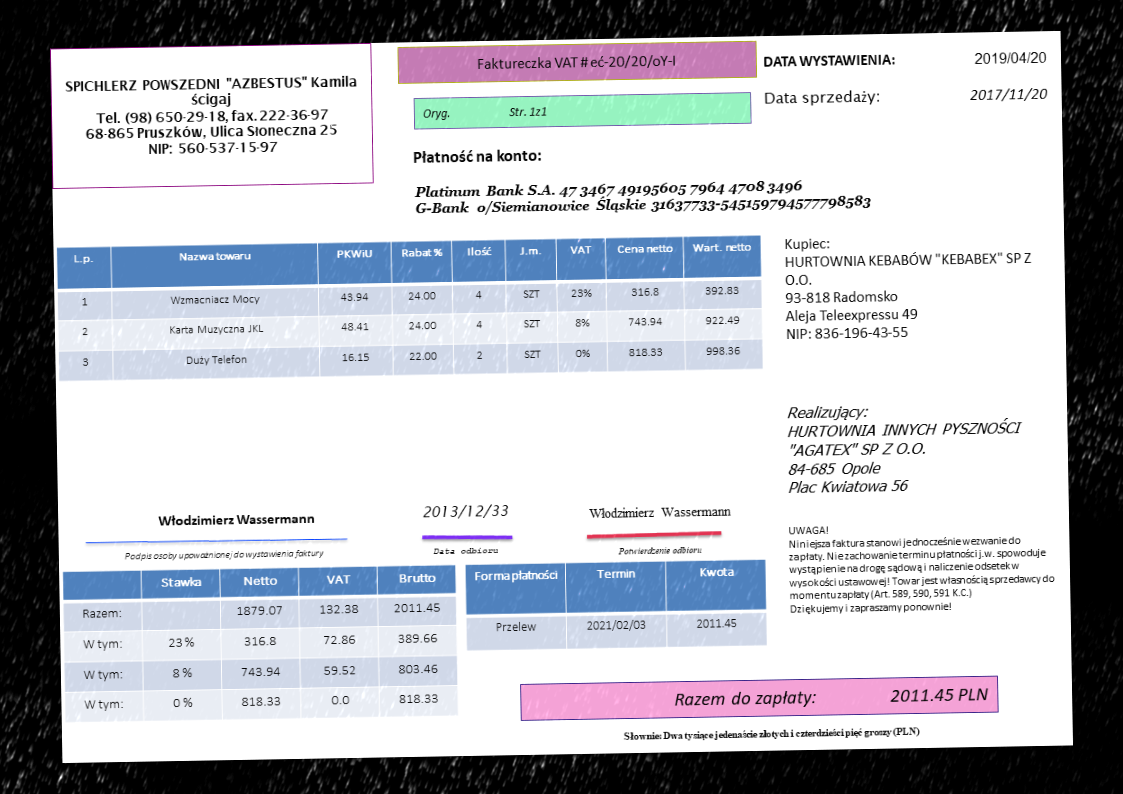Table: (54, 232, 766, 383), (61, 563, 460, 724), (463, 557, 771, 653)
TextBox: (781, 231, 1035, 345), (786, 519, 1060, 616), (62, 72, 362, 160), (783, 397, 1025, 500), (411, 174, 876, 221), (670, 682, 991, 713), (620, 722, 923, 745), (472, 50, 678, 74), (121, 544, 326, 564), (154, 507, 319, 531), (762, 47, 898, 72), (411, 144, 544, 169), (585, 501, 735, 522), (763, 87, 883, 109), (421, 102, 550, 122), (419, 500, 511, 522), (966, 83, 1049, 105), (972, 46, 1050, 67), (428, 541, 503, 559), (615, 543, 704, 558)
